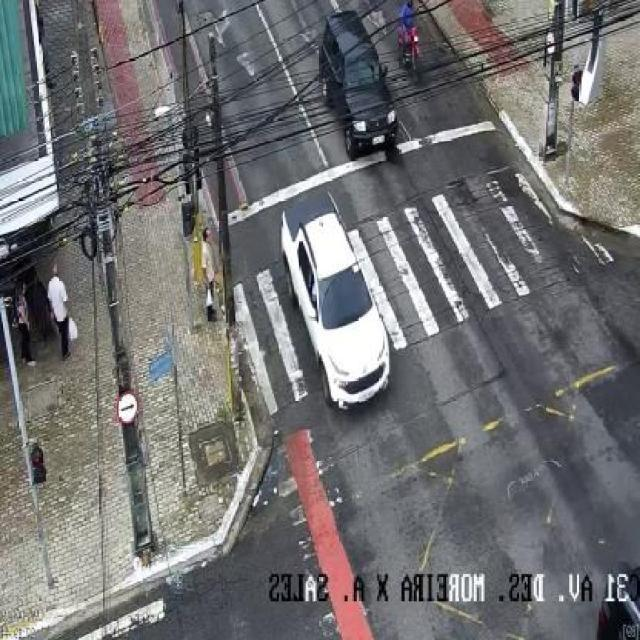Car: (280, 188, 406, 416), (298, 6, 409, 158), (570, 516, 640, 640)
Cycle: (396, 0, 456, 86)
